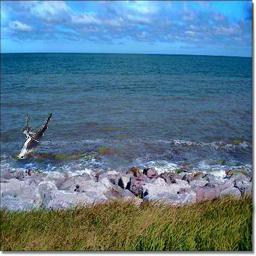Cuckoo: (15, 113, 52, 159)
